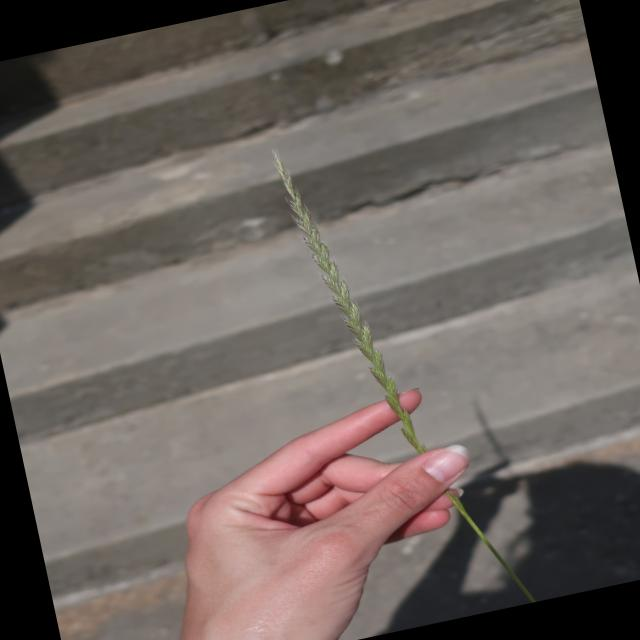Lolium: (264, 113, 538, 635)
